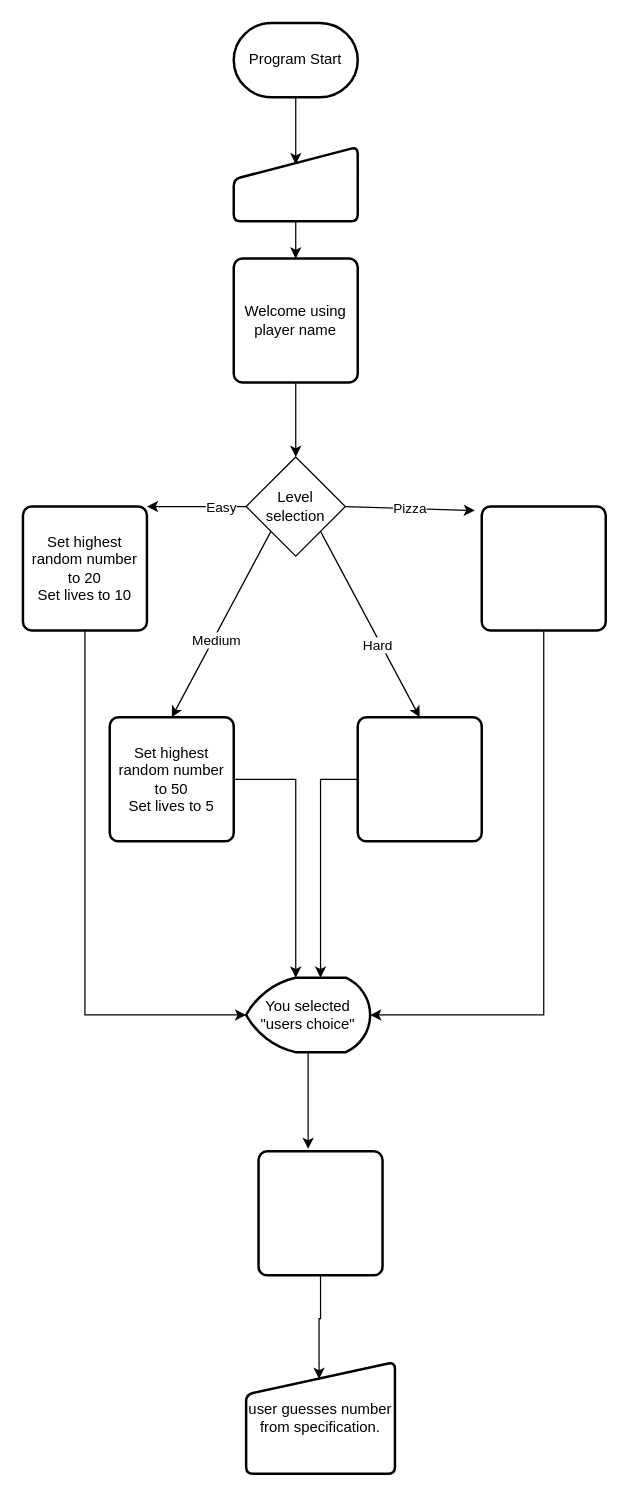
Image size: 627x1495. Some labels were removed from this diagram. Each missing label, with the centre of its shape:
"Ask player name" belongs at point (295, 183).
"Choose random number from specification." belongs at point (320, 1212).
"Set highest number to 10000 Set lives to 1" belongs at point (543, 568).
"Set highest random number to 100 Set lives to 5" belongs at point (419, 778).
